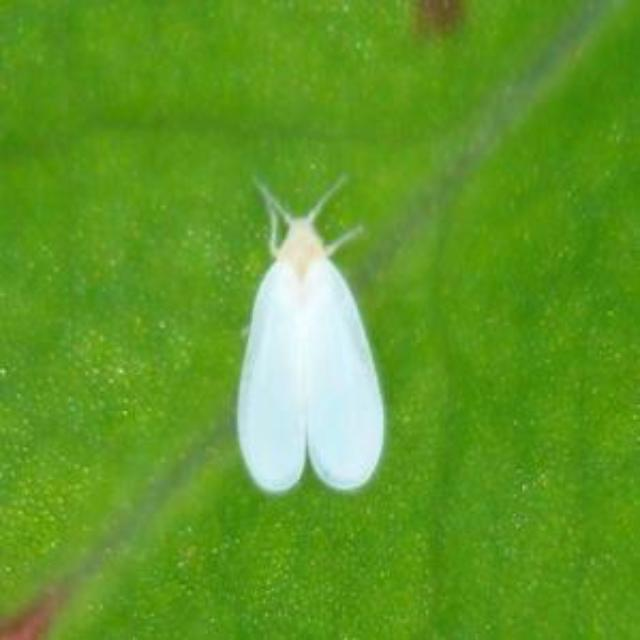Silverleaf whitefly: (192, 180, 436, 500)
